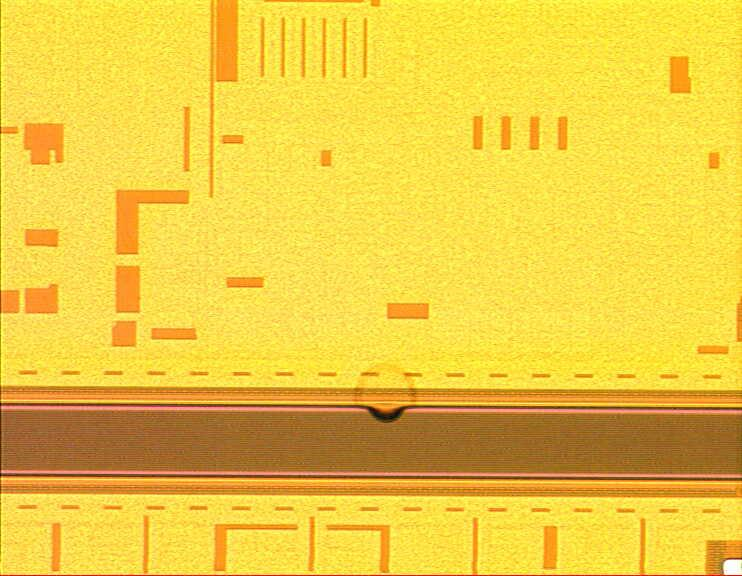PIQ PARTICLE: (351, 363, 419, 431)
